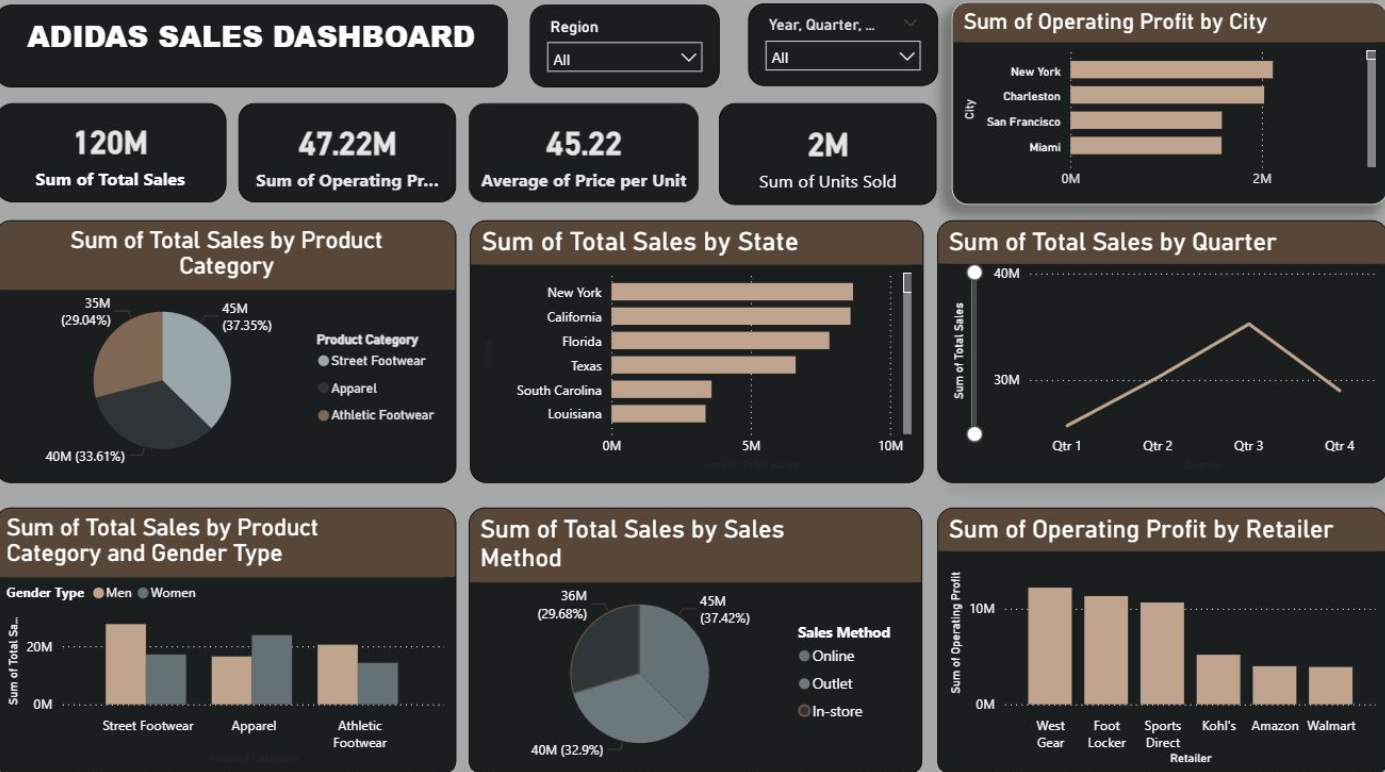

The page's visual inventory and layout, read from the dashboard file:
{"tool":"powerbi","page":{"name":"Page 1","canvas":[1280,720],"ordinal":0},"visuals":[{"type":"textbox","box":[0,11.2,471.5,75.9],"z":0},{"type":"card","fields":{"Values":["Sum(Adidas_Sales.Total Sales)"]},"box":[0,102,212.7,90.8],"z":1000},{"type":"card","fields":{"Values":["Sum(Adidas_Sales.Operating Profit)"]},"box":[223.9,102,200.3,90.8],"z":2000},{"type":"card","fields":{"Values":["Avg(Adidas_Sales.Price per Unit)"]},"box":[435.4,102,211.5,90.8],"z":3000},{"type":"card","fields":{"Values":["Sum(Adidas_Sales.Units Sold)"]},"box":[665.5,102,200.3,93.3],"z":4000},{"type":"slicer","fields":{"Values":["Adidas_Sales.Region"]},"box":[491.4,11.2,174.2,75.9],"z":5000},{"type":"slicer","fields":{"Values":["Adidas_Sales.Invoice Date.Variation.Date Hierarchy.Year","Adidas_Sales.Invoice Date.Variation.Date Hierarchy.Quarter","Adidas_Sales.Invoice Date.Variation.Date Hierarchy.Month","Adidas_Sales.Invoice Date.Variation.Date Hierarchy.Day"]},"box":[691.6,10,174.2,75.9],"z":6000},{"type":"clusteredBarChart","fields":{"Category":["Adidas_Sales.City"],"Y":["Sum(Adidas_Sales.Operating Profit)"]},"box":[879.5,8.7,400.6,186.6],"z":7000},{"type":"pieChart","fields":{"Category":["Adidas_Sales.Product Category"],"Y":["Sum(Adidas_Sales.Total Sales)"]},"box":[0,209,424.2,241.3],"z":8000},{"type":"clusteredBarChart","fields":{"Category":["Adidas_Sales.State"],"Y":["Sum(Adidas_Sales.Total Sales)"]},"box":[436.6,209,416.7,241.3],"z":9000},{"type":"lineChart","fields":{"Y":["Sum(Adidas_Sales.Total Sales)"],"Category":["Adidas_Sales.Invoice Date.Variation.Date Hierarchy.Quarter"]},"box":[865.8,209,414.2,241.3],"z":10000},{"type":"clusteredColumnChart","fields":{"Y":["Sum(Adidas_Sales.Total Sales)"],"Category":["Adidas_Sales.Product Category"],"Series":["Adidas_Sales.Gender Type"]},"box":[0,472.7,424.2,247.5],"z":11000},{"type":"pieChart","fields":{"Category":["Adidas_Sales.Sales Method"],"Y":["Sum(Adidas_Sales.Total Sales)"]},"box":[435.4,472.7,416.7,247.5],"z":12000},{"type":"columnChart","fields":{"Y":["Sum(Adidas_Sales.Operating Profit)"],"Category":["Adidas_Sales.Retailer"]},"box":[865.8,472.7,414.2,247.5],"z":13000}]}

Visuals, with their boxes in screenshot pixels (x1, y1, x2, y2), scaled from the page's 1280x720 canvas onto the 1385x772 screenshot:
textbox: locate(0, 12, 510, 93)
card - Sum(Adidas_Sales.Total Sales): locate(0, 109, 230, 207)
card - Sum(Adidas_Sales.Operating Profit): locate(242, 109, 459, 207)
card - Avg(Adidas_Sales.Price per Unit): locate(471, 109, 700, 207)
card - Sum(Adidas_Sales.Units Sold): locate(720, 109, 937, 209)
slicer - Adidas_Sales.Region: locate(532, 12, 720, 93)
slicer - Adidas_Sales.Invoice Date.Variation.Date Hierarchy.Year x Adidas_Sales.Invoice Date.Variation.Date Hierarchy.Quarter: locate(748, 11, 937, 92)
clusteredBarChart - Adidas_Sales.City x Sum(Adidas_Sales.Operating Profit): locate(952, 9, 1384, 209)
pieChart - Adidas_Sales.Product Category x Sum(Adidas_Sales.Total Sales): locate(0, 224, 459, 483)
clusteredBarChart - Adidas_Sales.State x Sum(Adidas_Sales.Total Sales): locate(472, 224, 923, 483)
lineChart - Sum(Adidas_Sales.Total Sales) x Adidas_Sales.Invoice Date.Variation.Date Hierarchy.Quarter: locate(937, 224, 1384, 483)
clusteredColumnChart - Sum(Adidas_Sales.Total Sales) x Adidas_Sales.Product Category: locate(0, 507, 459, 771)
pieChart - Adidas_Sales.Sales Method x Sum(Adidas_Sales.Total Sales): locate(471, 507, 922, 771)
columnChart - Sum(Adidas_Sales.Operating Profit) x Adidas_Sales.Retailer: locate(937, 507, 1384, 771)
